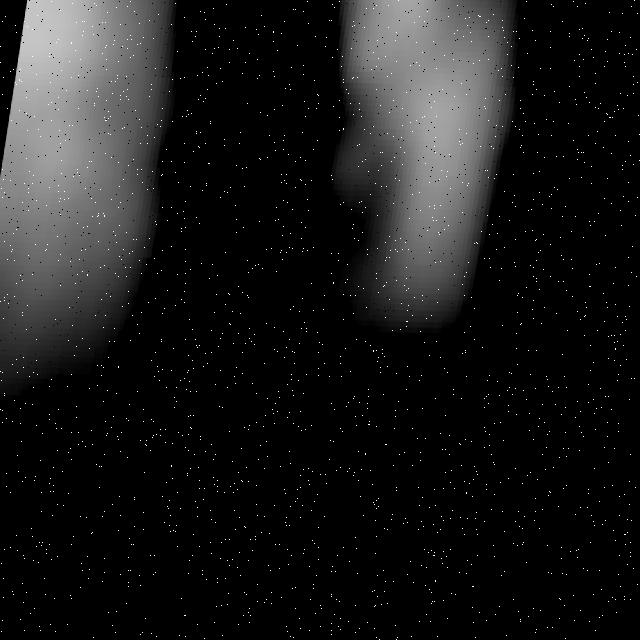person: (252, 1, 558, 360), (1, 1, 185, 424)
